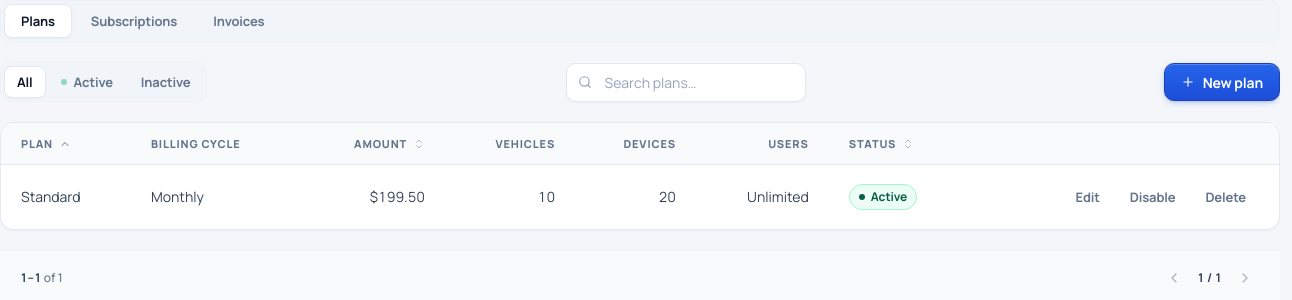
BillingPage › switches to Subscriptions and resolves organization/plan names
Check: the text "Standard" is shown, box [21,187,81,206]
Click the tab "Subscriptions": [134, 21] box [74,4,194,38]
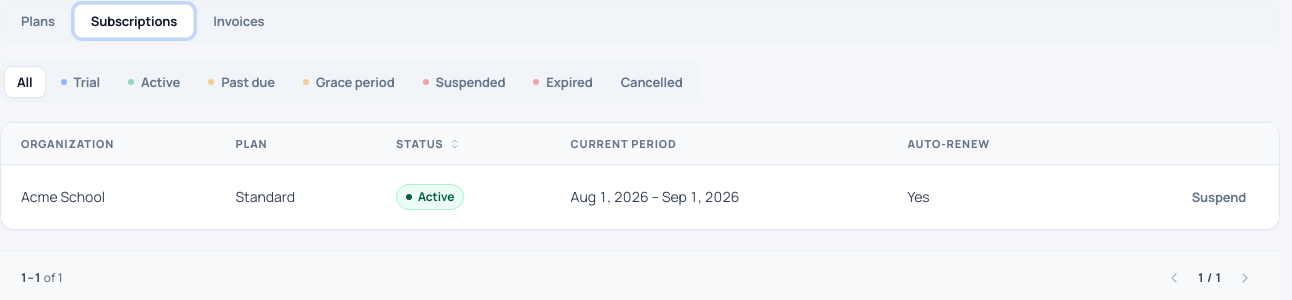
Check: the text "Acme School" is shown, box [21,187,105,206]
